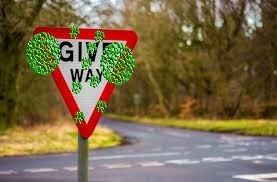giveway: (29, 24, 139, 139), (43, 51, 132, 119), (32, 26, 87, 133), (91, 27, 139, 136), (32, 27, 140, 62)
